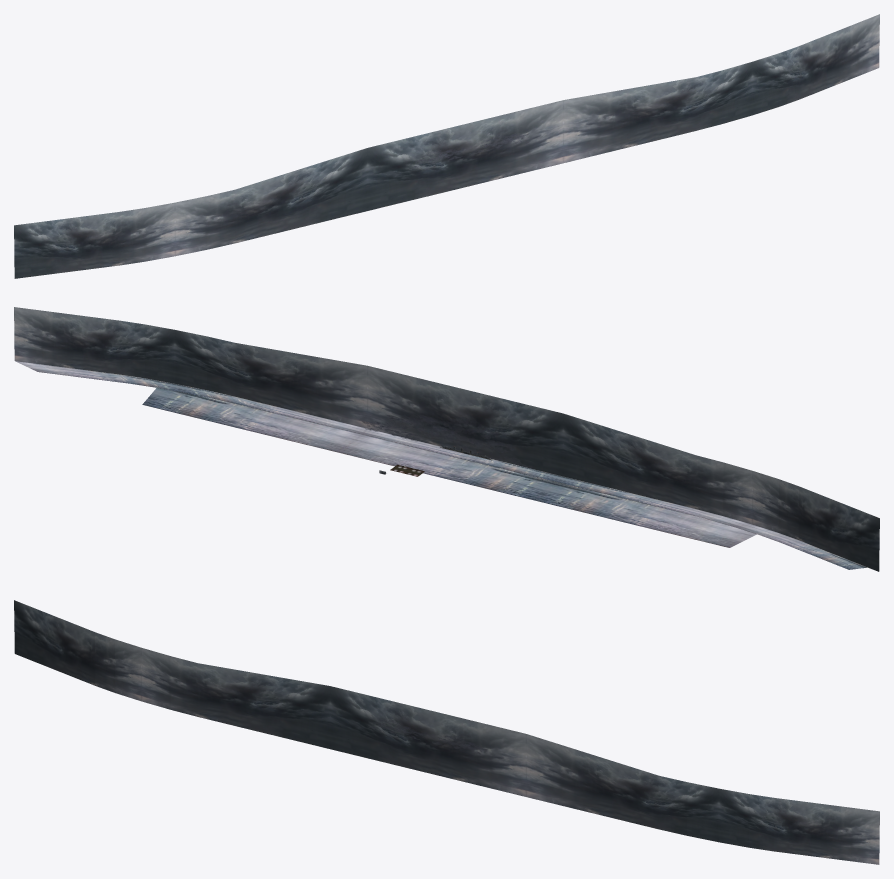
File: outdoor-6ead65cf.glb
The picture shows the model from 3 angles, top to bottom: view 1: azimuth 30°, elevation 25°; view 2: azimuth 150°, elevation 25°; view 3: azimuth 330°, elevation 25°; orthographic projection.
Visible parts, largest first — view 1: TX_Sky.001, cloudy_01; view 2: TX_Sky.001, cloudy_01; view 3: TX_Sky.001, cloudy_01.
Part boxes in pixels (left/top/right/bottom): TX_Sky.001: left=14, top=14, right=879, bottom=278; cloudy_01: left=409, top=133, right=529, bottom=169; TX_Sky.001: left=14, top=307, right=879, bottom=571; cloudy_01: left=362, top=414, right=531, bottom=467; TX_Sky.001: left=14, top=600, right=879, bottom=864; cloudy_01: left=368, top=719, right=487, bottom=755.
Bounding box in the file's own units: 1545 × 111 × 145.
8 materials, 6 textured.
